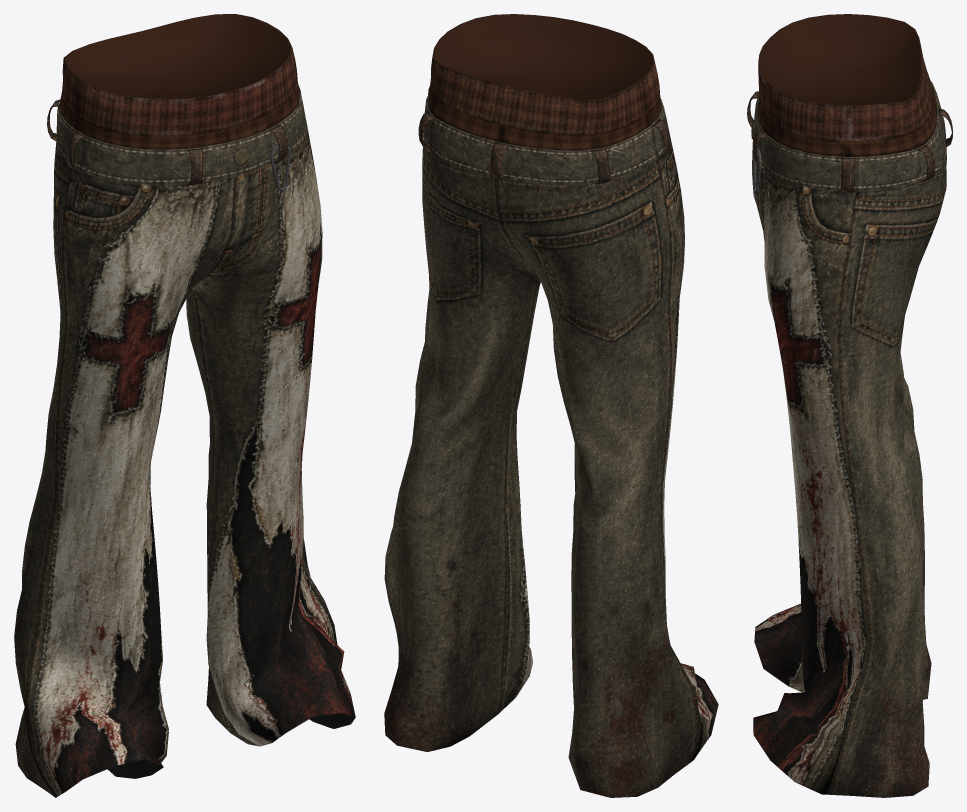
3 renders of one model, left to right at view 1: azimuth 30°, elevation 25°; view 2: azimuth 150°, elevation 25°; view 3: azimuth 270°, elevation 25°, orthographic. The views are drawn at different scales.
Parts seen in each view (by area): view 1: hash_43021D9A.model; view 2: hash_43021D9A.model; view 3: hash_43021D9A.model.
Boxes of the visible parts, x1,y1,x2,y2 form: hash_43021D9A.model: (14, 14, 355, 797); hash_43021D9A.model: (384, 14, 718, 797); hash_43021D9A.model: (747, 14, 952, 797).
Bounding box in the file's own units: 0.5048 × 1.09 × 0.3018.
